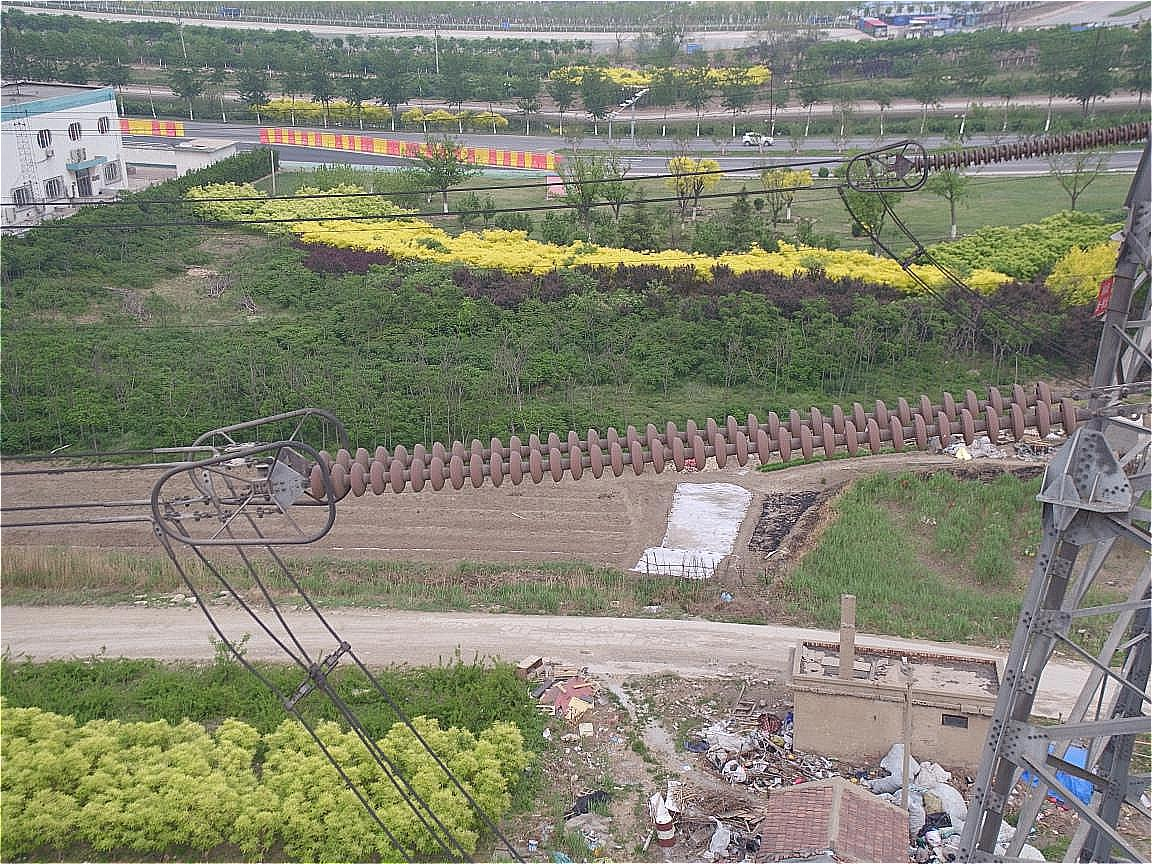insultor1: (309, 364, 1084, 512)
